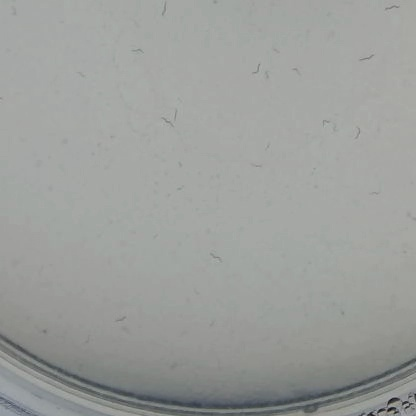worm: (154, 107, 181, 129), (315, 113, 343, 134), (65, 68, 91, 89), (107, 311, 130, 333), (346, 124, 366, 147), (0, 3, 22, 23), (155, 0, 172, 23), (353, 51, 379, 65), (378, 3, 406, 16), (128, 45, 147, 60), (207, 249, 228, 262), (244, 160, 266, 172), (286, 64, 304, 78), (367, 187, 387, 199), (243, 63, 263, 75), (259, 69, 274, 82), (263, 139, 277, 151)
